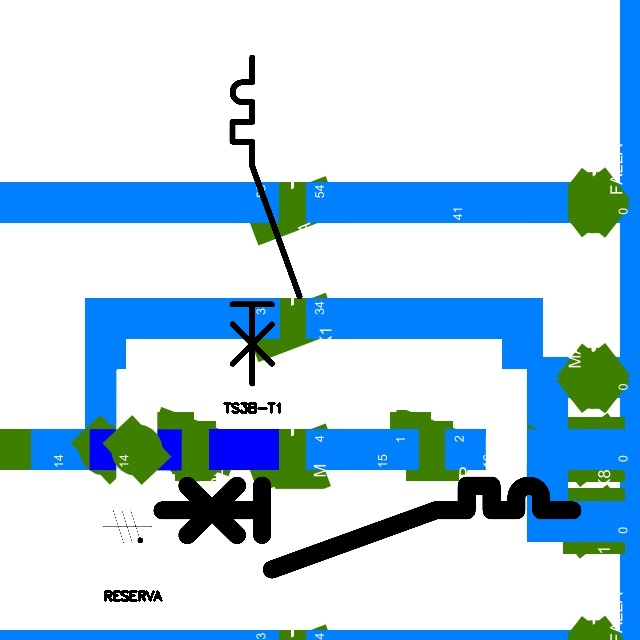interruptor_termomagnetico: (151, 475, 582, 580), (224, 49, 308, 392)
